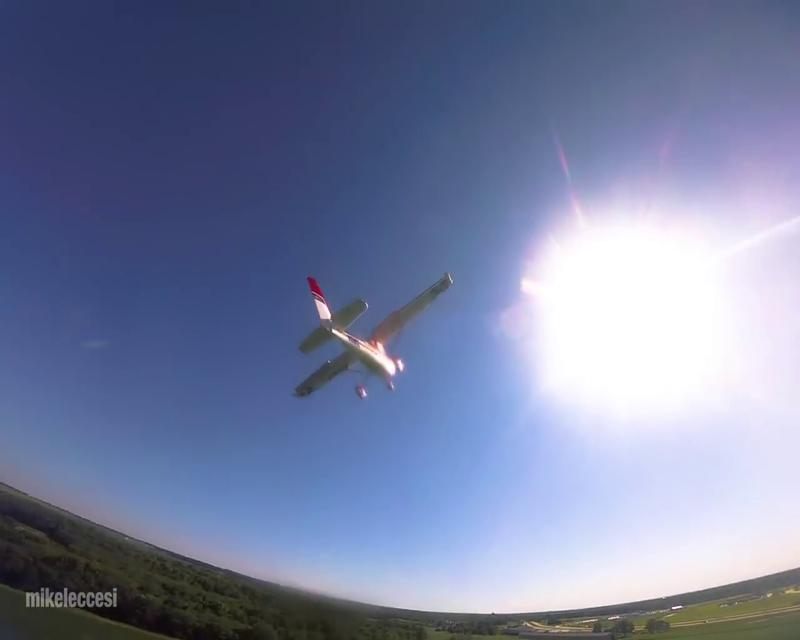UAV: (292, 272, 454, 399)
